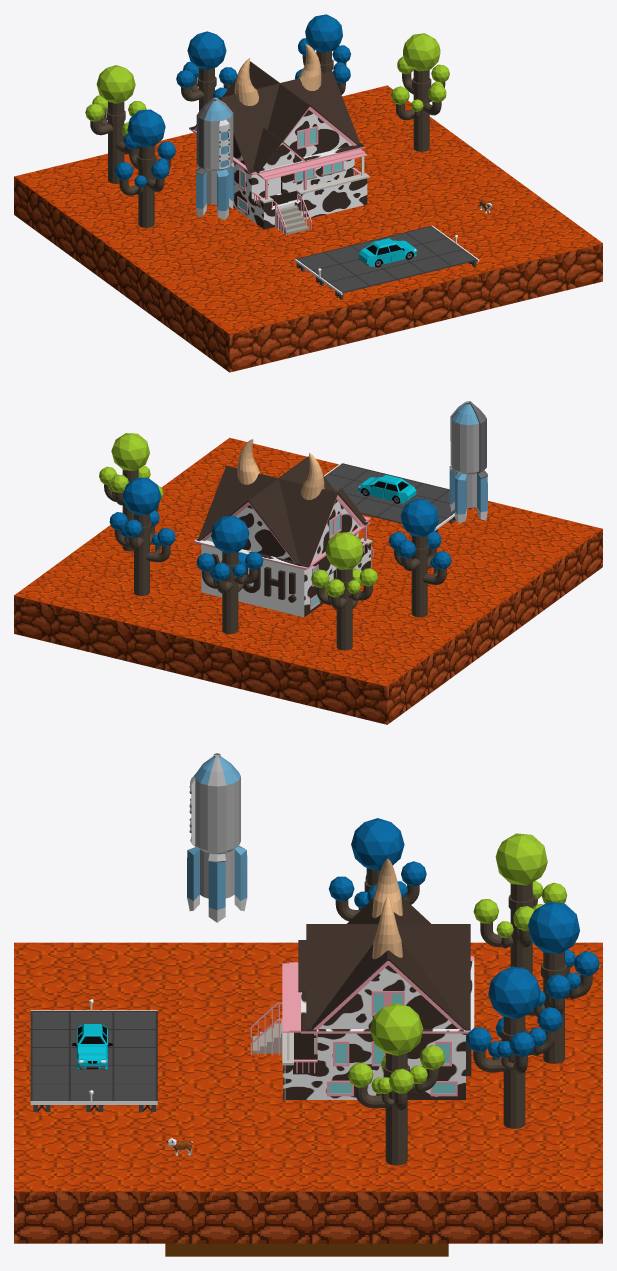
3 renders of one model, top to bottom at view 1: azimuth 30°, elevation 25°; view 2: azimuth 150°, elevation 25°; view 3: azimuth 270°, elevation 25°, orthographic. The views are drawn at different scales.
Visible parts, largest first — view 1: Cube.001, Cube.1242, OBJRANDOM_ROCKETSHIP, VEHICLES_CAR; view 2: Cube.001, Cube.1242, OBJRANDOM_ROCKETSHIP, VEHICLES_CAR; view 3: Cube.001, Cube.1242, OBJRANDOM_ROCKETSHIP, UNDERGROUND_ART_PIECE_VAN_GOGH, VEHICLES_CAR.
Part boxes in pixels (<box>): Cube.001: <box>14,14,602,372</box>; Cube.1242: <box>189,44,369,235</box>; OBJRANDOM_ROCKETSHIP: <box>195,97,234,220</box>; VEHICLES_CAR: <box>358,238,417,267</box>; Cube.001: <box>14,433,602,724</box>; Cube.1242: <box>193,439,373,617</box>; OBJRANDOM_ROCKETSHIP: <box>449,401,487,523</box>; VEHICLES_CAR: <box>358,475,416,503</box>; Cube.001: <box>14,818,602,1243</box>; Cube.1242: <box>250,858,474,1099</box>; OBJRANDOM_ROCKETSHIP: <box>187,753,247,922</box>; UNDERGROUND_ART_PIECE_VAN_GOGH: <box>165,1243,448,1256</box>; VEHICLES_CAR: <box>72,1024,112,1069</box>.
Size of the model in its own units: 4000 by 2301 by 4000.
43 materials, 5 textured.
